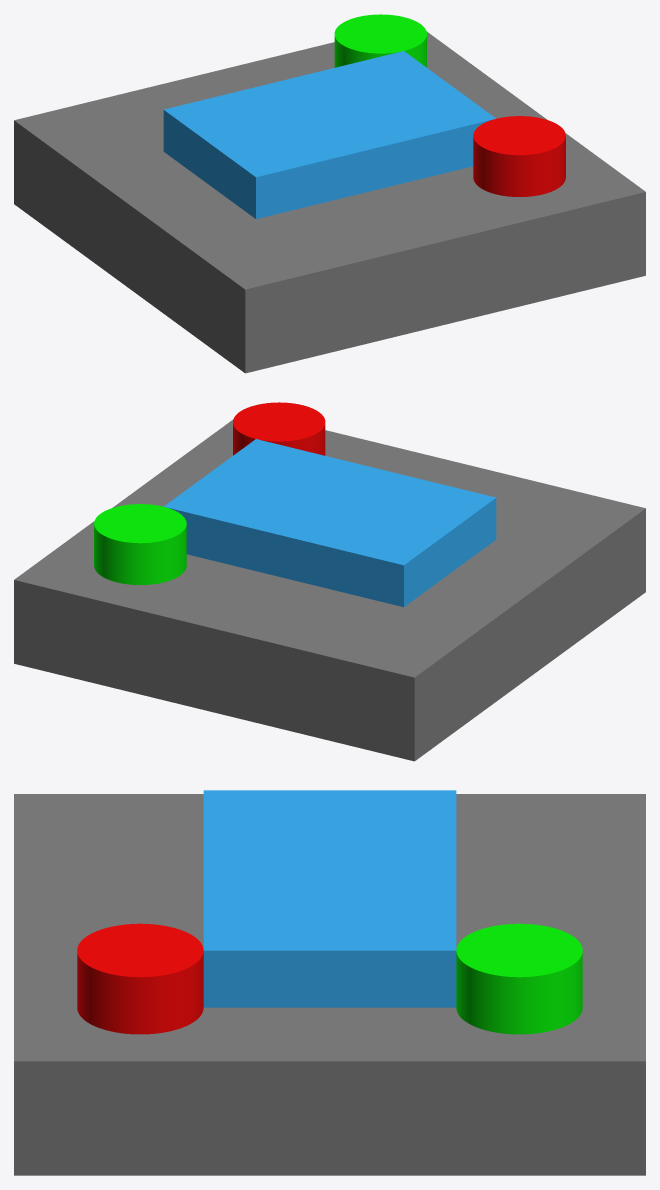
Rendered from ThermostatModel.gltf.
The picture shows the model from 3 angles, top to bottom: view 1: azimuth 30°, elevation 25°; view 2: azimuth 150°, elevation 25°; view 3: azimuth 270°, elevation 25°; orthographic projection. The views are drawn at different scales.
Visible parts, largest first — view 1: ThermostatBody, Screen, DecreaseButton, IncreaseButton; view 2: ThermostatBody, Screen, IncreaseButton, DecreaseButton; view 3: ThermostatBody, Screen, IncreaseButton, DecreaseButton.
Boxes of the visible parts, <box> form: ThermostatBody: <box>14,31,645,373</box>; Screen: <box>163,51,495,219</box>; DecreaseButton: <box>473,116,565,196</box>; IncreaseButton: <box>334,14,426,67</box>; ThermostatBody: <box>14,419,645,761</box>; Screen: <box>164,439,496,607</box>; IncreaseButton: <box>94,504,186,584</box>; DecreaseButton: <box>233,402,325,455</box>; ThermostatBody: <box>14,794,645,1175</box>; Screen: <box>203,790,456,1007</box>; IncreaseButton: <box>456,923,582,1034</box>; DecreaseButton: <box>77,923,203,1034</box>.
Bounding box in the file's own units: 0.05 × 0.015 × 0.05.
